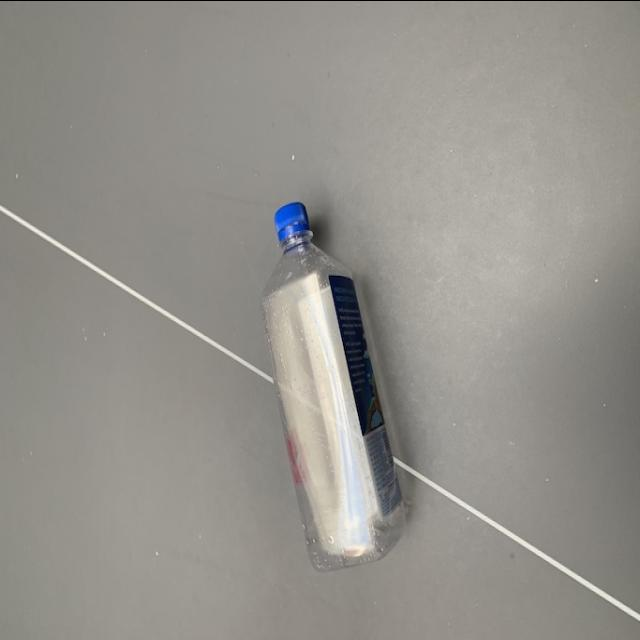litter: (260, 201, 408, 571)
